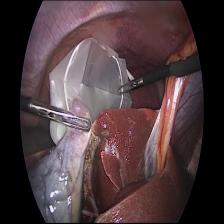Grasper: (31, 97, 92, 134), (116, 72, 143, 96)
Specimen Bag: (48, 31, 133, 145)
